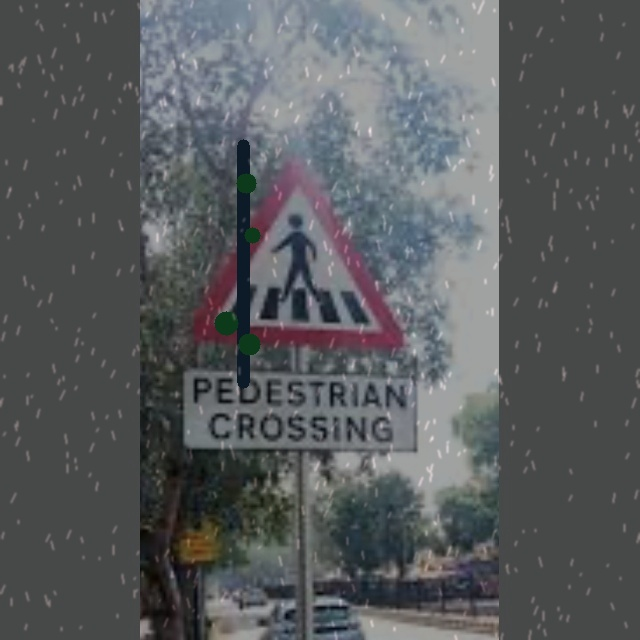Pedestrian_Crossing: (197, 154, 414, 345)
